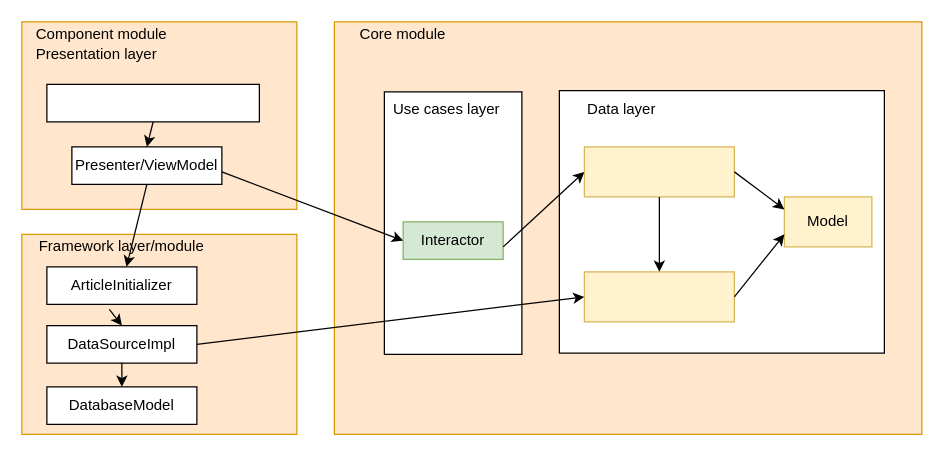
This 944x456 diagram has some shape labels left out. The centre of each missing label's shape, as x and y in pixels:
Activity/Fragment/Component: (x=152, y=102)
DataSource: (x=658, y=296)
Repository: (x=658, y=171)
